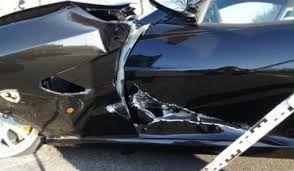Dent: (103, 83, 256, 146), (65, 11, 131, 63)
